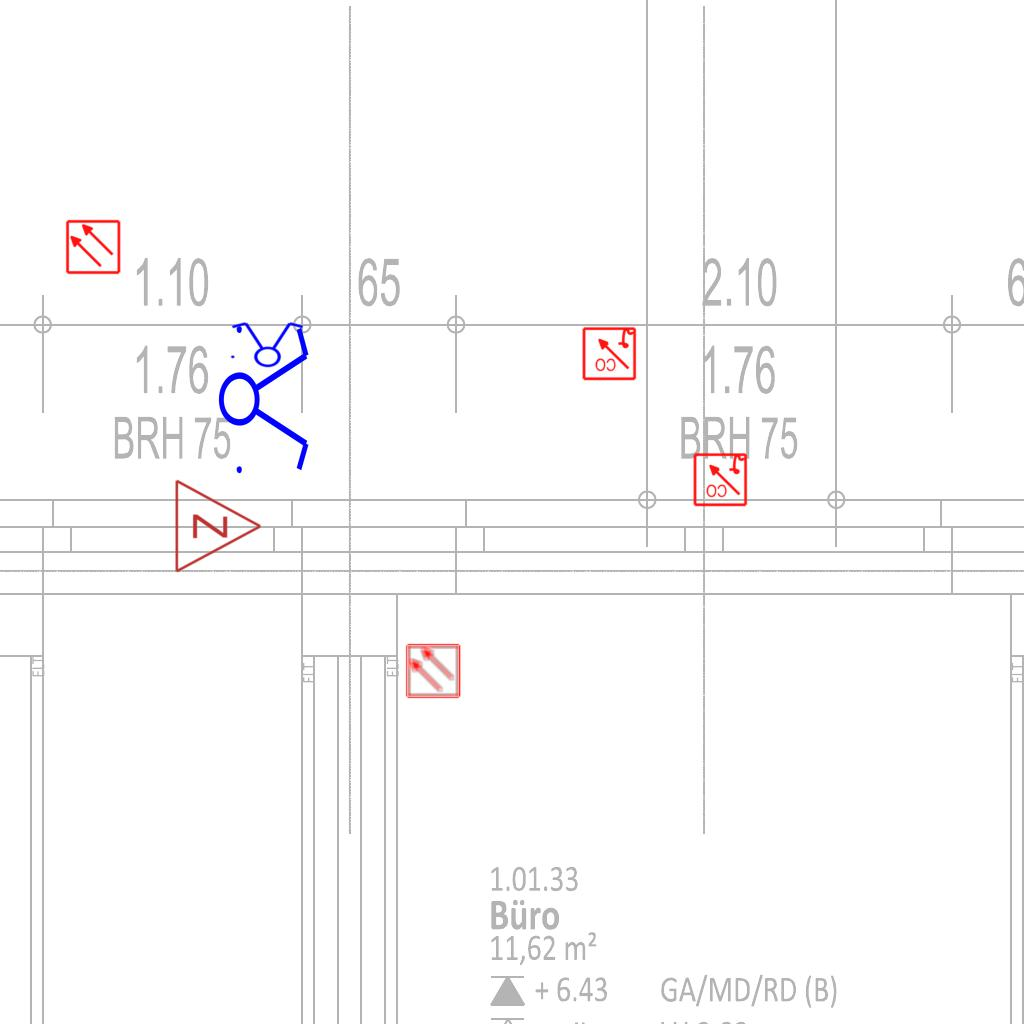RMO_Rauchmelder_optischer: (405, 643, 461, 699), (65, 219, 121, 275)
ROA_Rauchmelder_optisch_mit_Signalgeber_(Sockelsirene): (581, 325, 637, 381), (692, 451, 748, 507)
Serienschalter: (217, 314, 313, 482), (225, 320, 309, 368)
Zimmersignalleuchte: (168, 476, 268, 574)
